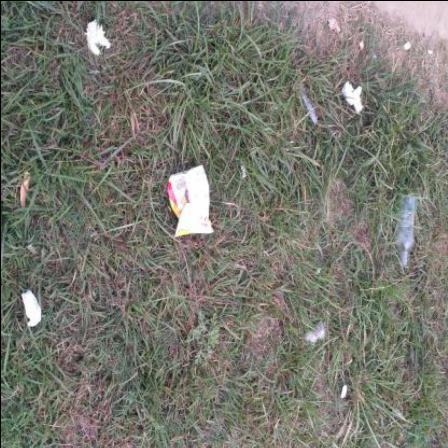Bottle: (396, 198, 416, 266)
Cigarette: (427, 50, 433, 55)
Plastic bag - wrapper: (167, 165, 215, 238), (21, 290, 41, 327), (299, 89, 317, 125), (24, 243, 38, 256)
Unlabeled litter: (87, 19, 110, 55), (342, 81, 364, 114), (342, 386, 347, 398)
